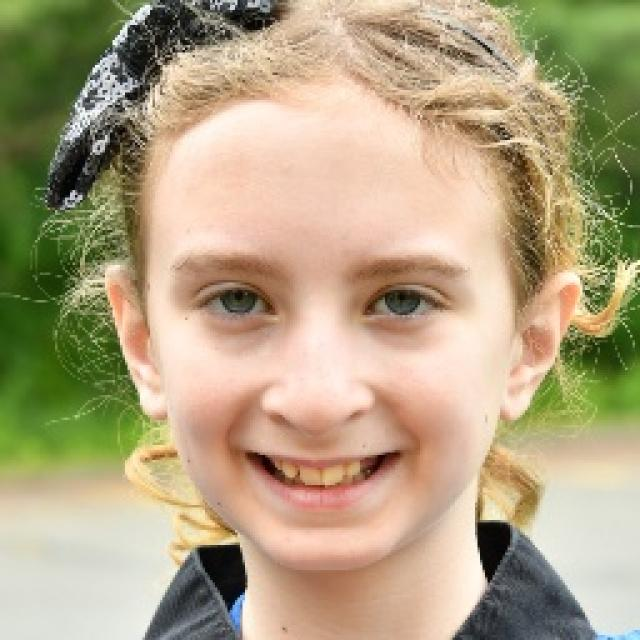earlobe: (499, 272, 581, 423), (104, 264, 171, 422)
